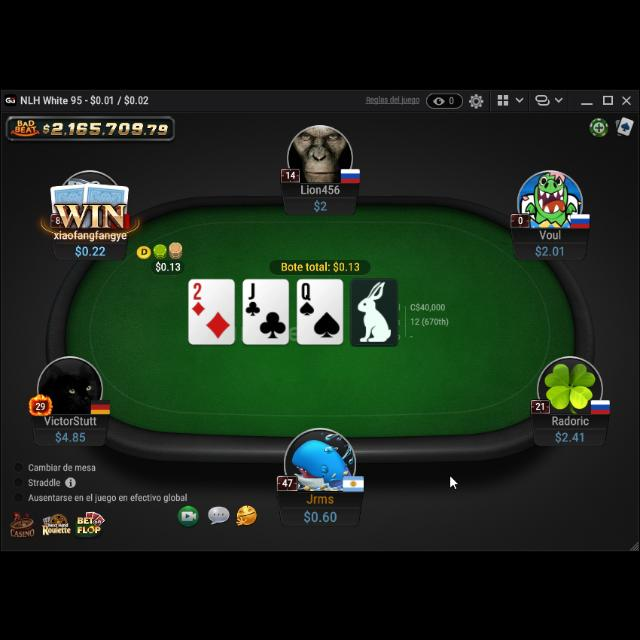2d: (192, 280, 206, 316)
Jc: (245, 280, 261, 318)
Qs: (298, 278, 316, 316)
bet_text: (156, 260, 182, 270)
card_back: (82, 179, 130, 211), (50, 178, 90, 212)
dealer: (138, 243, 152, 257)
pot_text: (280, 257, 362, 269)
stack_text: (302, 504, 338, 522), (554, 426, 586, 440), (74, 241, 106, 255), (534, 240, 564, 254), (55, 426, 87, 439), (312, 195, 330, 209)
